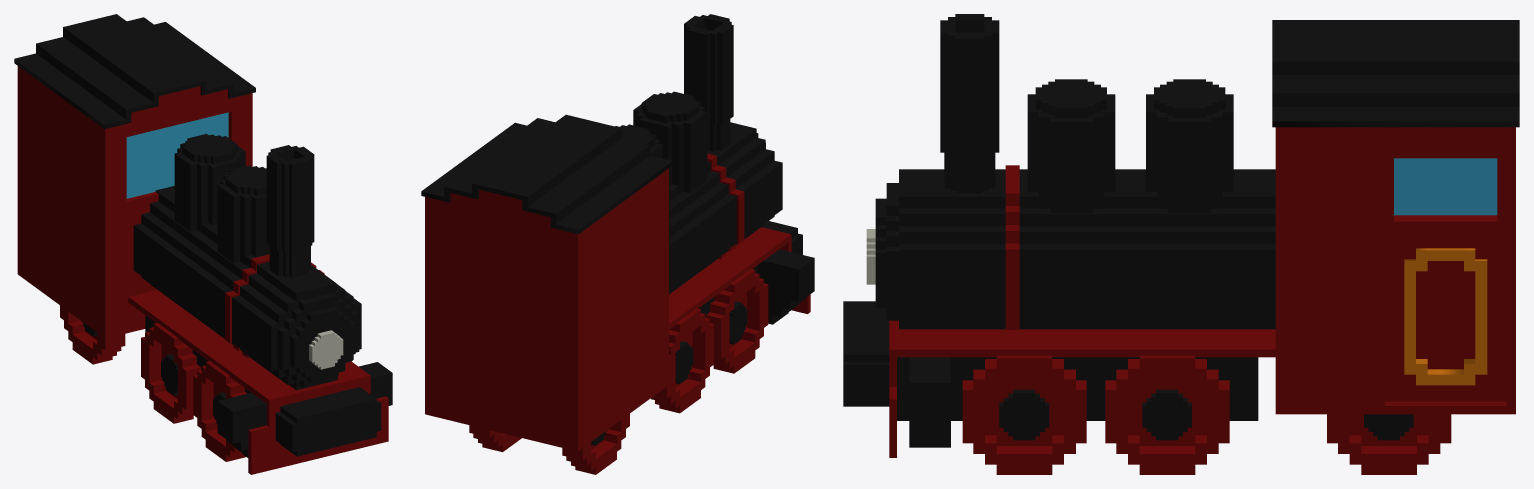
The model's file is Train_main_part.FBX.
3 renders of one model, left to right at view 1: azimuth 30°, elevation 25°; view 2: azimuth 150°, elevation 25°; view 3: azimuth 270°, elevation 25°, orthographic. The views are drawn at different scales.
Visible parts, largest first — view 1: train_drivers_cabin, train_main_part_001, train_roof, main_red_board, front_black_box, pipe_long_part, train_tire_006, train_front, pipe_short_part002, pipe_short_part001, back_cotrners_001 (×2), train_extra_nose_part001 (+8 smaller); view 2: train_drivers_cabin, train_roof, train_main_part_001, pipe_long_part, train_tire_007, main_red_board, train_tire_006, pipe_short_part001, back_cotrners_001, train_tire_009, train_extra_nose_part003, train_extra_nose_part005 (+4 smaller); view 3: train_main_part_001, train_drivers_cabin, train_roof, train_tire_005, train_tire_004, main_red_board, train_door, pipe_short_part001, pipe_short_part002, pipe_long_part, big_box, train_tire_008 (+11 smaller).
Boxes of the visible parts, box(x1,y1,x2,y2) form: train_drivers_cabin: box(17, 66, 252, 338); train_main_part_001: box(133, 186, 361, 390); train_roof: box(14, 14, 255, 129); main_red_board: box(128, 290, 388, 474); front_black_box: box(275, 387, 381, 456); pipe_long_part: box(266, 145, 314, 252); train_tire_006: box(141, 323, 200, 423); train_front: box(126, 112, 228, 198); pipe_short_part002: box(174, 143, 245, 232); pipe_short_part001: box(217, 174, 269, 264); back_cotrners_001 (×2): box(217, 362, 392, 457); train_extra_nose_part001: box(290, 306, 355, 382); train_drivers_cabin: box(425, 168, 668, 451); train_roof: box(421, 114, 672, 234); train_main_part_001: box(669, 122, 782, 294); pipe_long_part: box(684, 14, 733, 125); train_tire_007: box(706, 269, 768, 373); main_red_board: box(669, 227, 810, 329); train_tire_006: box(650, 308, 713, 413); pipe_short_part001: box(633, 101, 707, 194); back_cotrners_001: box(757, 249, 814, 324); train_tire_009: box(562, 414, 629, 474); train_extra_nose_part003: box(641, 91, 699, 123); train_extra_nose_part005: box(707, 153, 744, 259); train_main_part_001: box(899, 169, 1275, 329); train_drivers_cabin: box(1275, 127, 1515, 414); train_roof: box(1272, 20, 1519, 127); train_tire_005: box(1105, 355, 1229, 474); train_tire_004: box(962, 355, 1086, 474); main_red_board: box(889, 320, 1275, 457); train_door: box(1384, 230, 1506, 401); pipe_short_part001: box(1027, 94, 1115, 213); pipe_short_part002: box(1146, 94, 1233, 213); pipe_long_part: box(940, 14, 999, 158); big_box: box(897, 357, 1258, 420); train_tire_008: box(1327, 414, 1451, 474).
Size of the model in its own units: 27.36 by 49.11 by 73.08.
